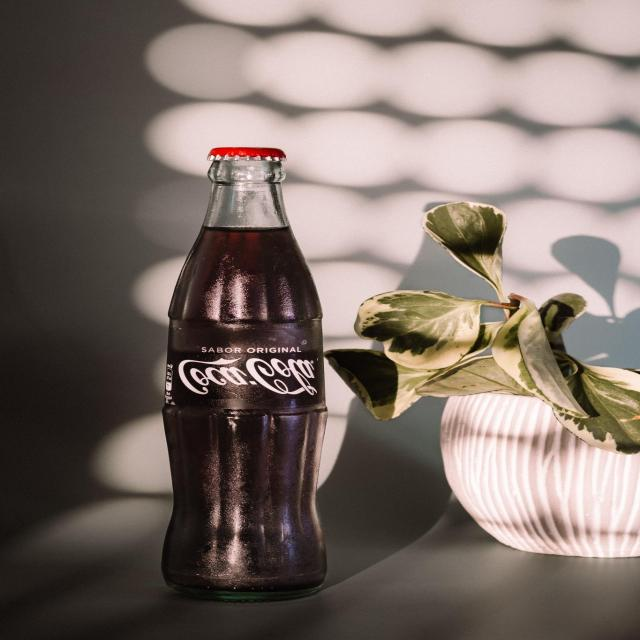coca-cola: (176, 354, 317, 399)
